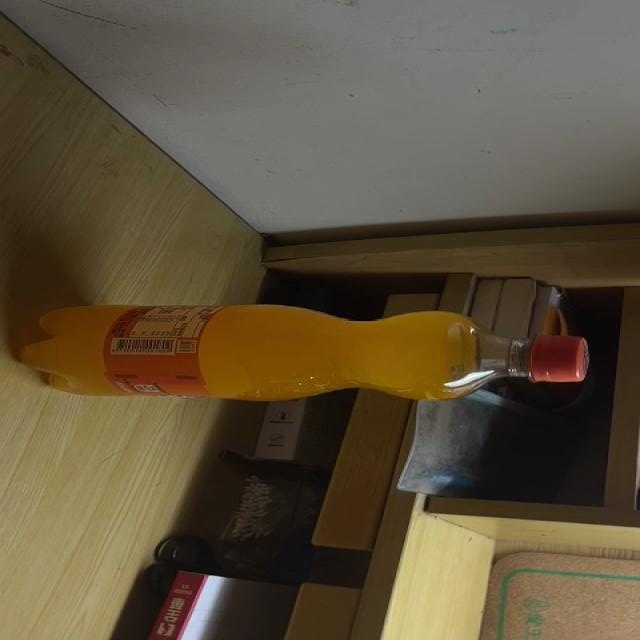Fanta: (20, 304, 592, 402)
